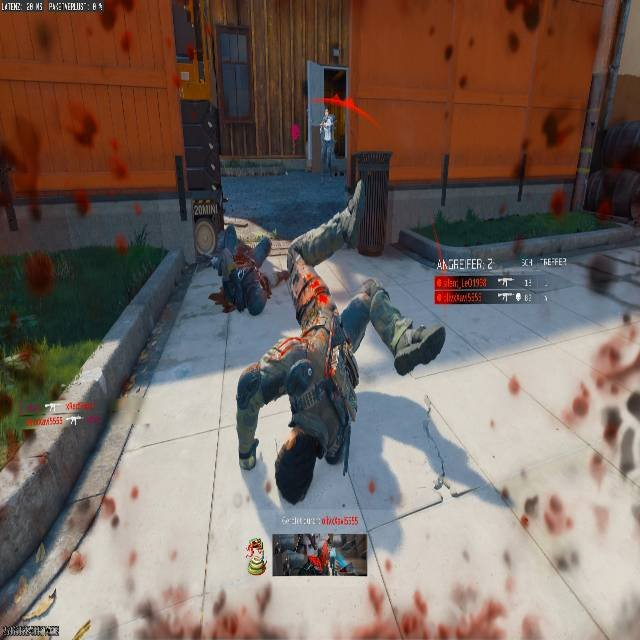player: (212, 185, 448, 629)
